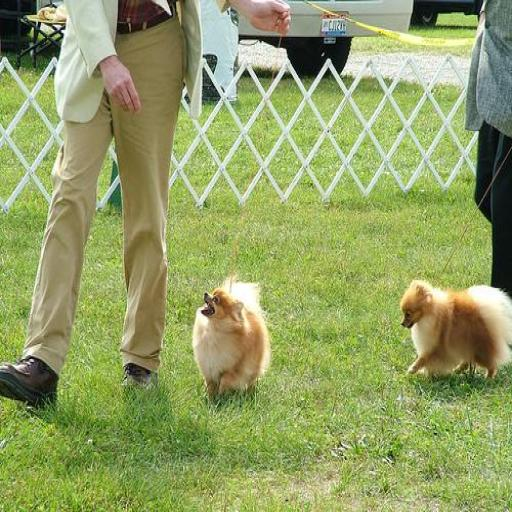dog_face: (396, 281, 430, 332), (202, 289, 236, 324)
